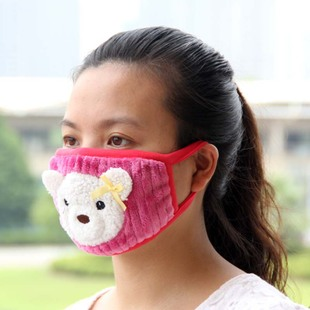face_mask: (54, 68, 179, 241)
